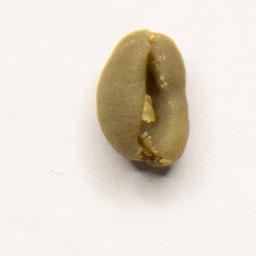peaberry: (93, 27, 193, 172)
